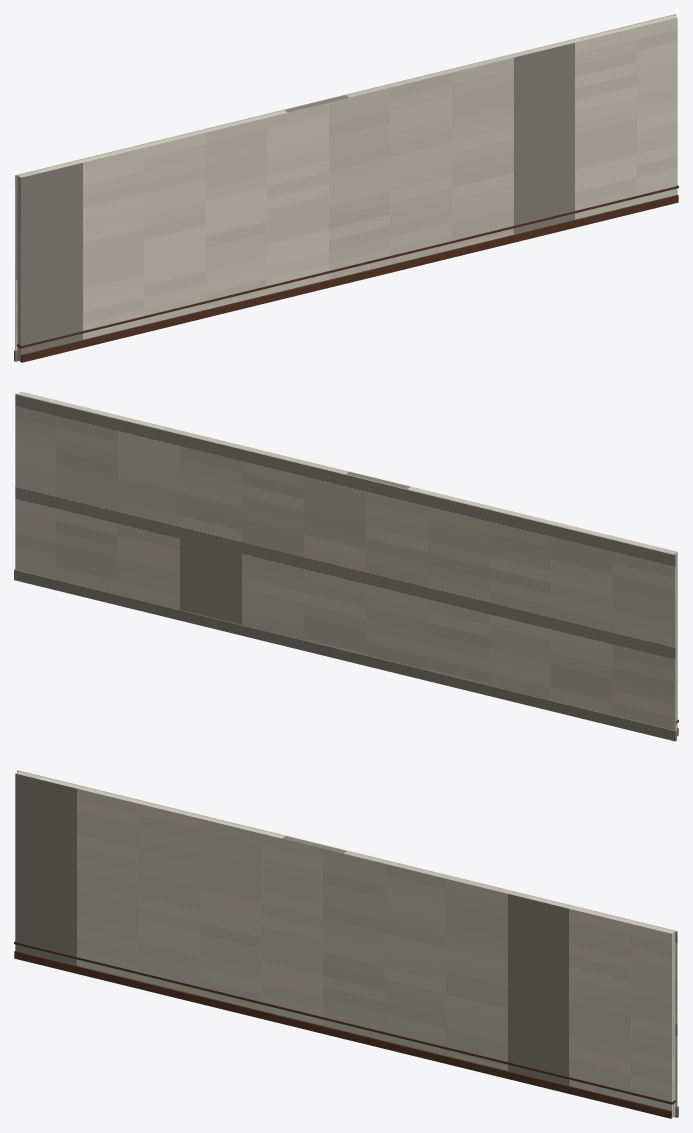
The model's file is cityhall_rear.glb.
3 views of the same model, one above another, from view 1: azimuth 30°, elevation 25°; view 2: azimuth 150°, elevation 25°; view 3: azimuth 330°, elevation 25° (orthographic).
Visible parts, largest first — view 1: Box1, Box2, Box5, Box6, Box3; view 2: Box3, Box4, Box1; view 3: Box1, Box2, Box5, Box6, Box3.
Part boxes in pixels (bbox=[...]): Box1: bbox=[17, 15, 677, 361]; Box2: bbox=[21, 195, 678, 362]; Box5: bbox=[17, 189, 676, 361]; Box6: bbox=[17, 185, 678, 348]; Box3: bbox=[15, 14, 675, 351]; Box3: bbox=[15, 393, 675, 730]; Box4: bbox=[14, 569, 676, 741]; Box1: bbox=[18, 391, 677, 736]; Box1: bbox=[15, 771, 675, 1117]; Box2: bbox=[14, 951, 671, 1118]; Box5: bbox=[15, 945, 675, 1116]; Box6: bbox=[14, 941, 675, 1104]; Box3: bbox=[17, 770, 677, 1107].
Bounding box in the file's own units: 17.27 × 4.64 × 0.25.
4 materials, 2 textured.
